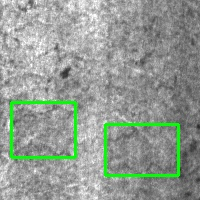crazing: (105, 124, 178, 175), (11, 102, 75, 157)
